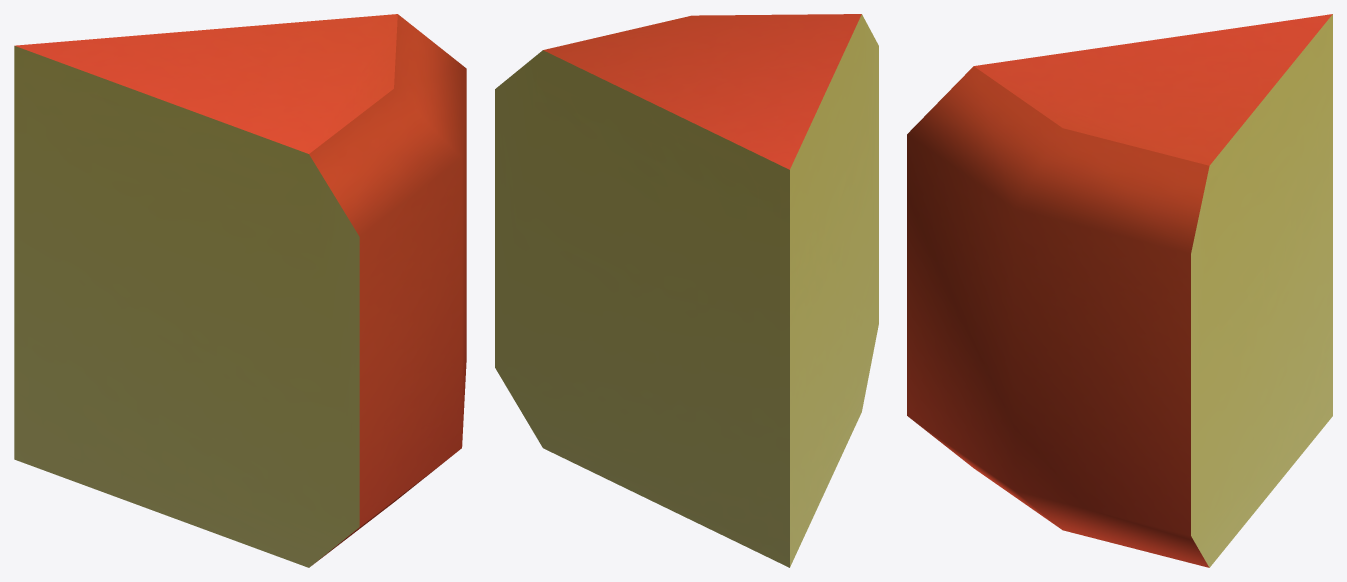
File: cheese_slice_red.fbx
3 views of the same model, side by side, from view 1: azimuth 30°, elevation 25°; view 2: azimuth 150°, elevation 25°; view 3: azimuth 270°, elevation 25° (orthographic). The views are drawn at different scales.
Parts seen in each view (by area): view 1: cheese_slice_red; view 2: cheese_slice_red; view 3: cheese_slice_red.
Part boxes in pixels (bbox=[...]): cheese_slice_red: bbox=[14, 14, 466, 567]; cheese_slice_red: bbox=[495, 14, 878, 567]; cheese_slice_red: bbox=[907, 14, 1332, 567].
Bounding box in the file's own units: 16.97 × 17.68 × 16.97.
